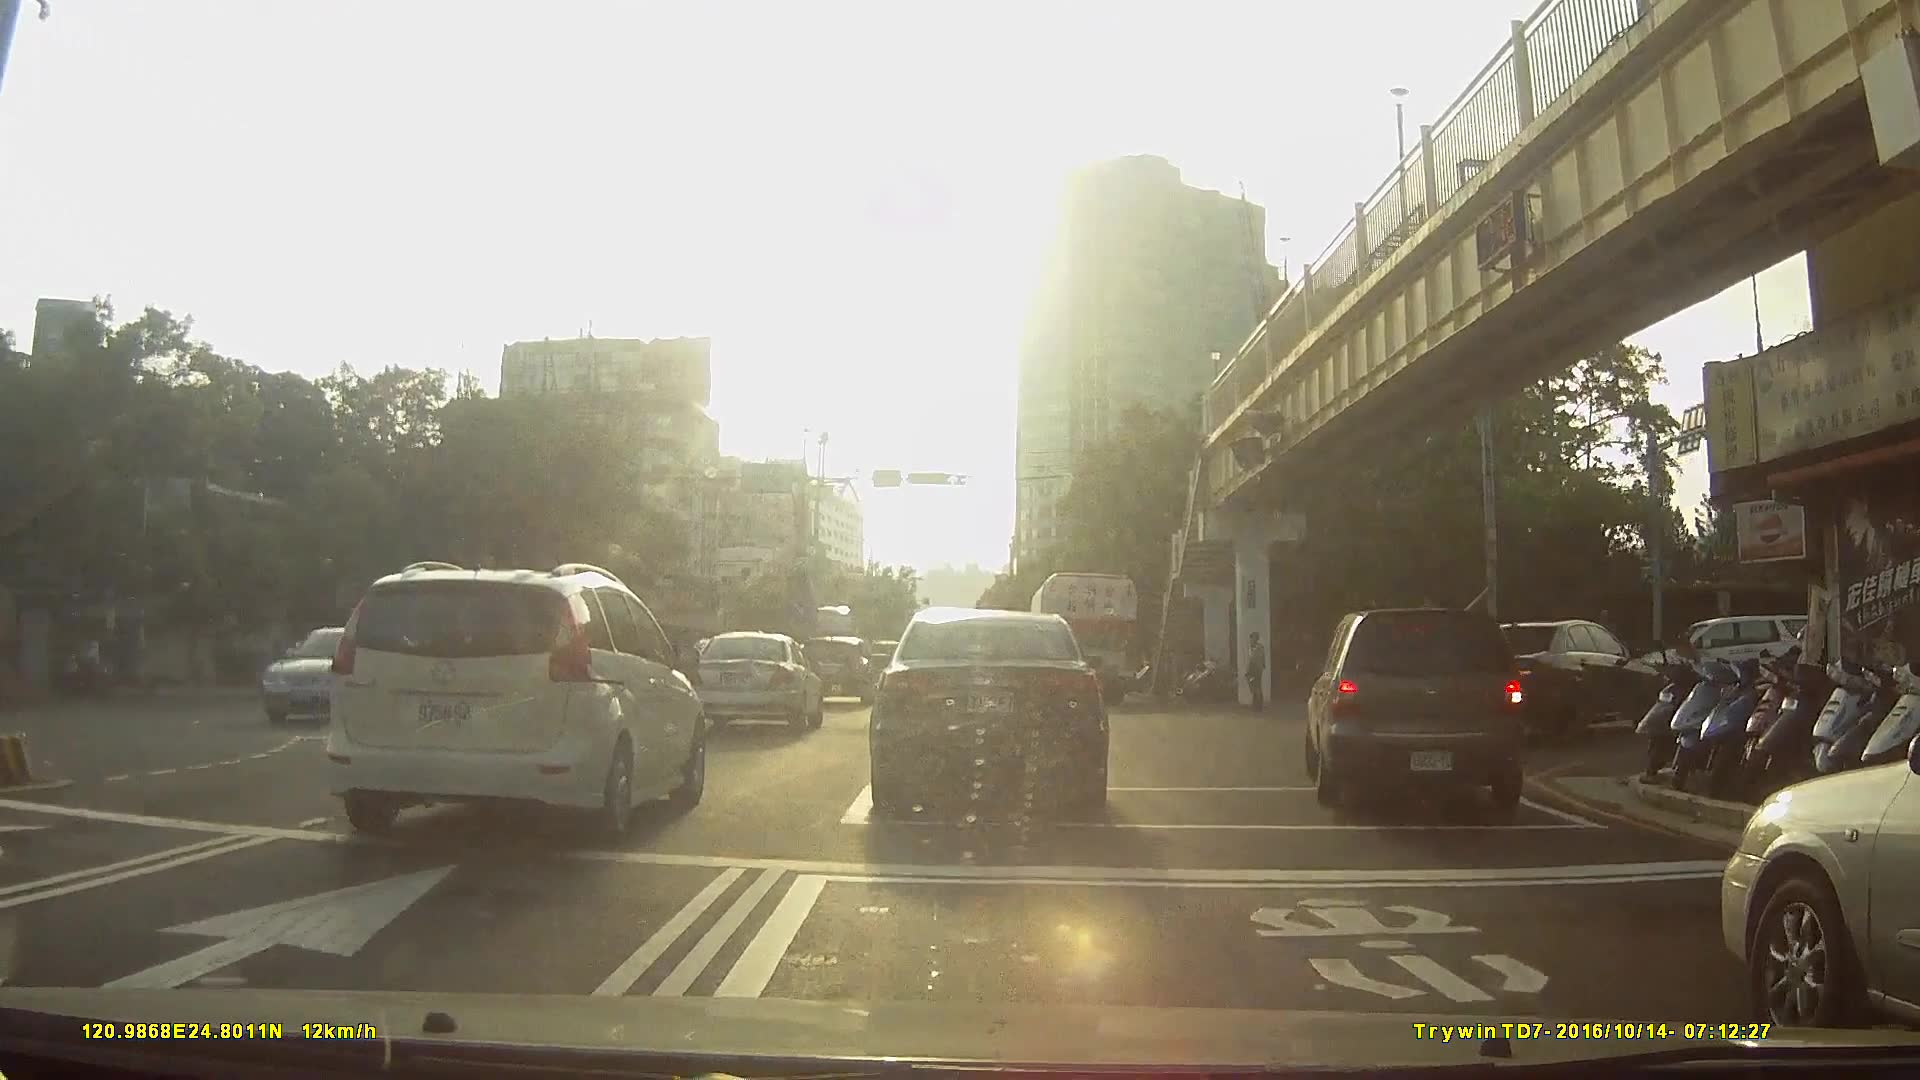pedestrian: (1243, 627, 1275, 709)
vehicle: (323, 557, 709, 845), (872, 596, 1111, 816), (1296, 600, 1540, 814), (1732, 762, 1920, 1037), (1467, 614, 1702, 737), (235, 618, 427, 722), (1029, 564, 1141, 701), (691, 627, 826, 734), (801, 630, 878, 702)
